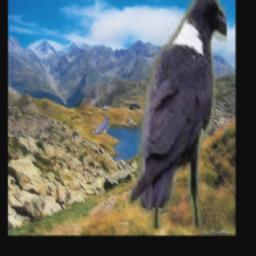Crow: (129, 0, 228, 230)
Swallow: (90, 117, 110, 135)
